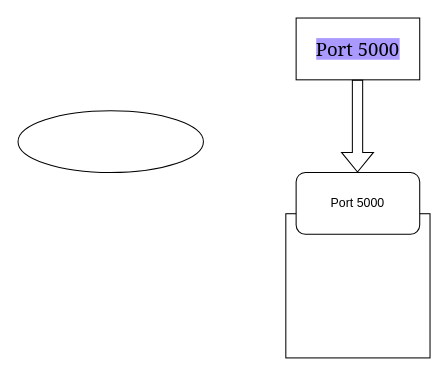
The diagram is 448 pixels wide and 376 high, and some of its shapes have lost their labels. The shapes that lost their labels are listed below. From the top down, each one's centre as x and y in pixels, then its label:
At point 110,141: "HOST".
At point 357,285: "Container".
